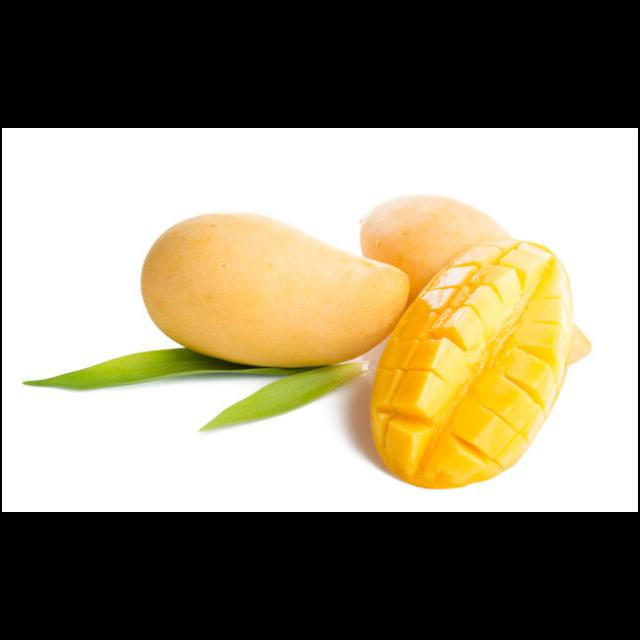mango: (141, 211, 411, 368)
